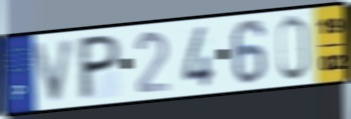0: (275, 13, 311, 83)
2: (133, 29, 173, 95)
4: (181, 22, 216, 90)
6: (229, 18, 268, 87)
P: (76, 33, 123, 104)
V: (30, 36, 79, 105)
